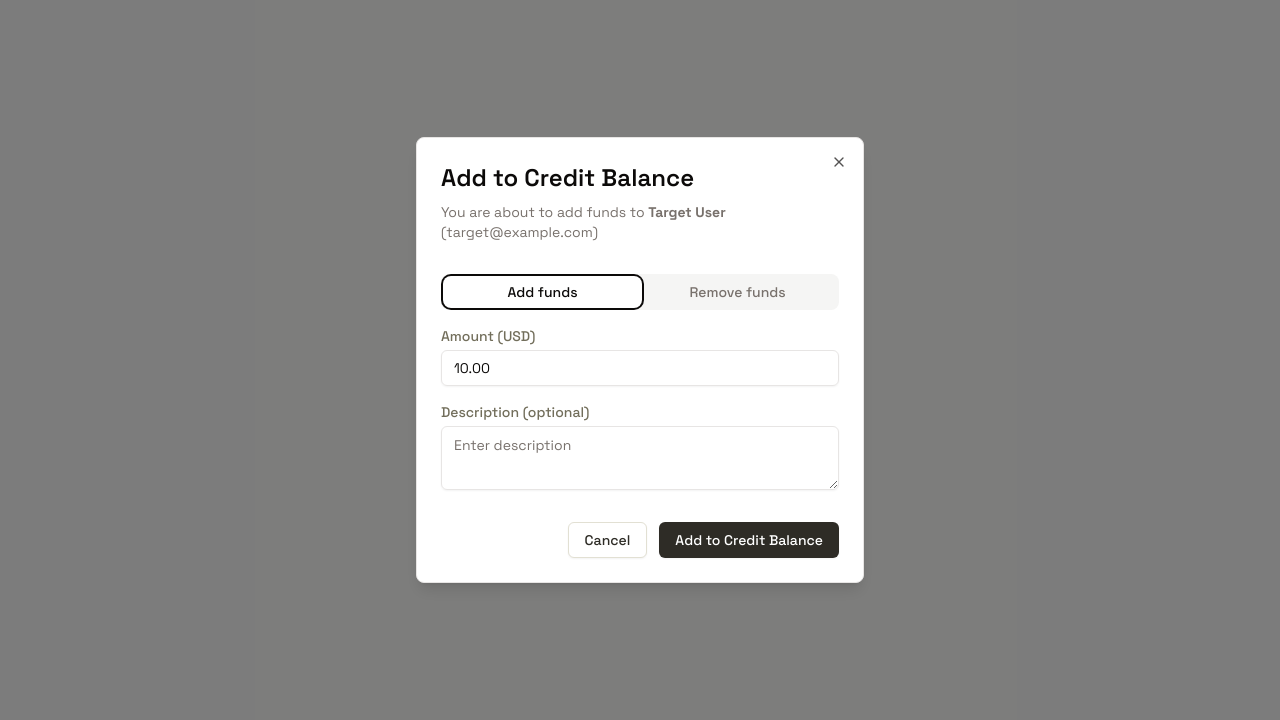
Test: AddFundsModal › rejects a non-positive amount without calling the API
This screenshot has width=1280, height=720.
Click the tab "Remove funds" at (738, 292), box [640,278,835,306]
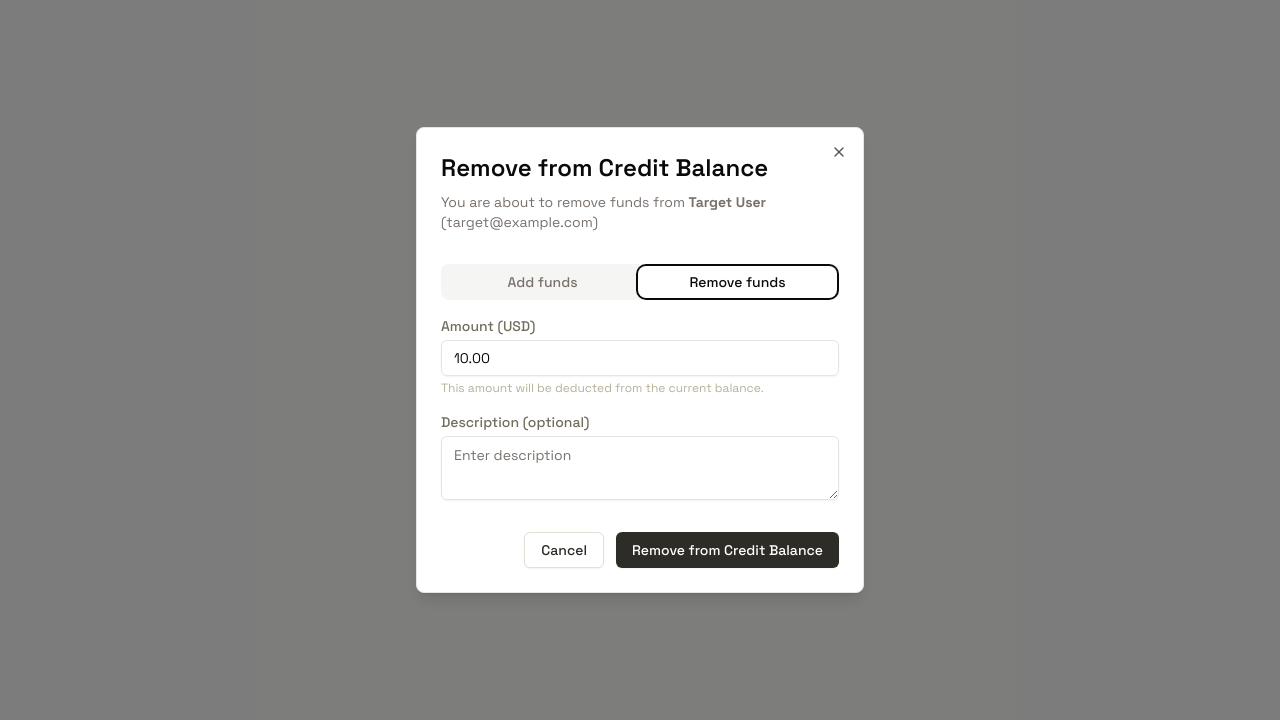
Type "0" into the number field labelled "Amount (USD)" at (640, 358), box [441,340,839,376]
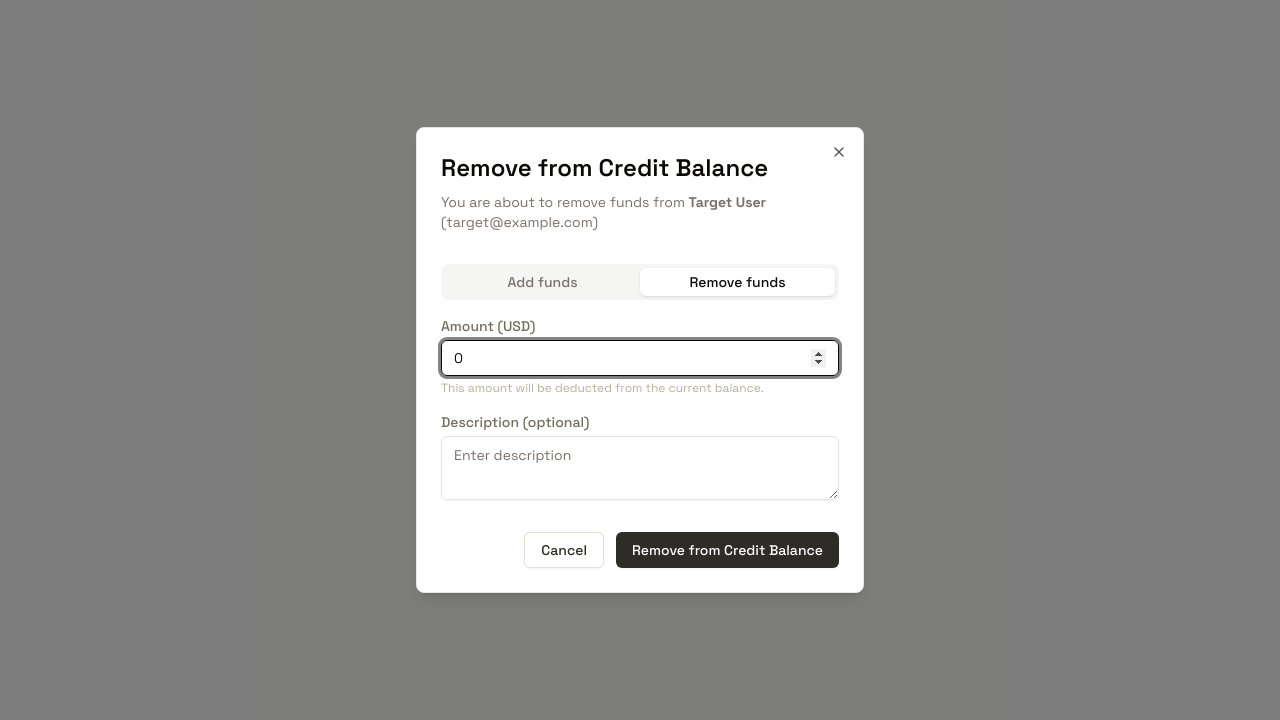
Click the button "Remove from Credit Balance" at (728, 550), box [616,532,839,568]
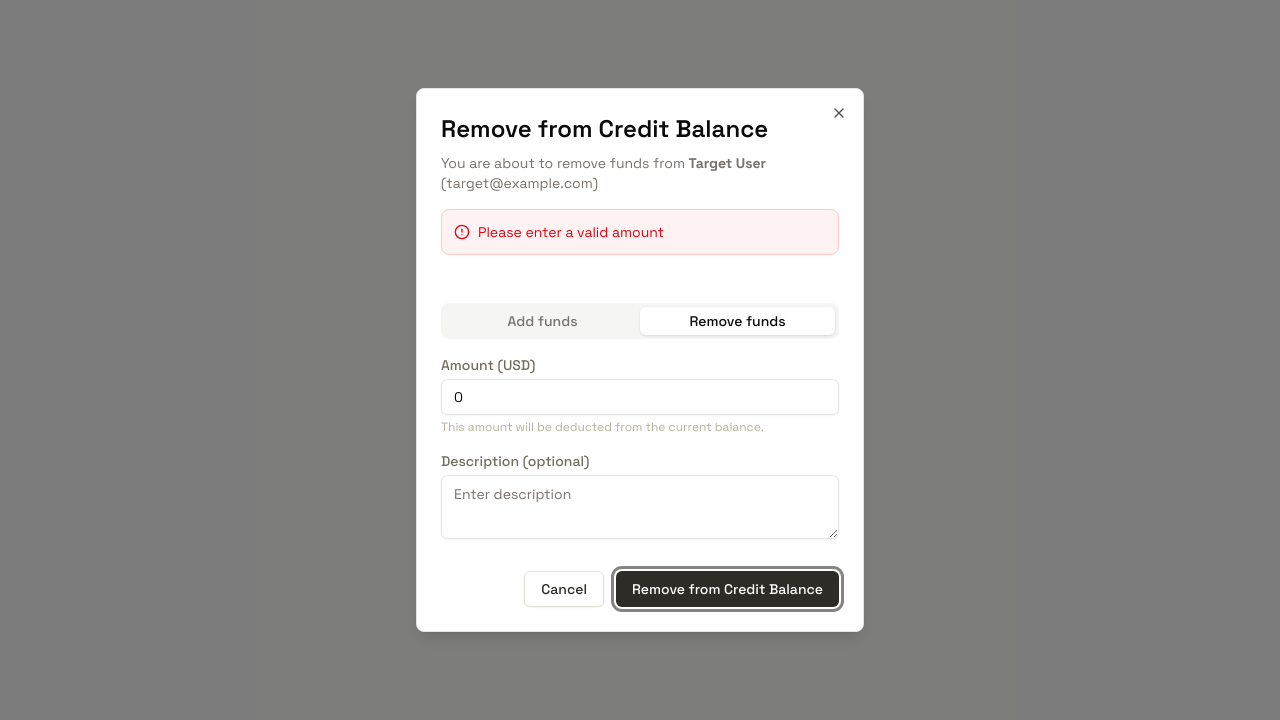
Result: the dialog shows "Please enter a valid amount" at [478,223,664,241]
